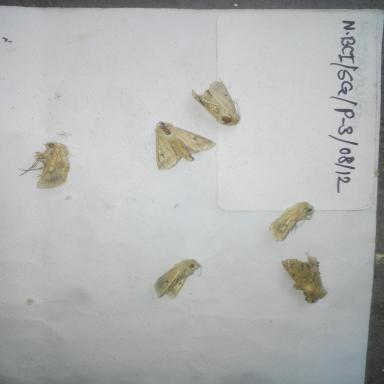abw: (142, 117, 218, 175), (13, 137, 76, 197), (274, 248, 332, 311), (182, 74, 244, 130), (150, 250, 207, 306), (264, 198, 322, 247)
